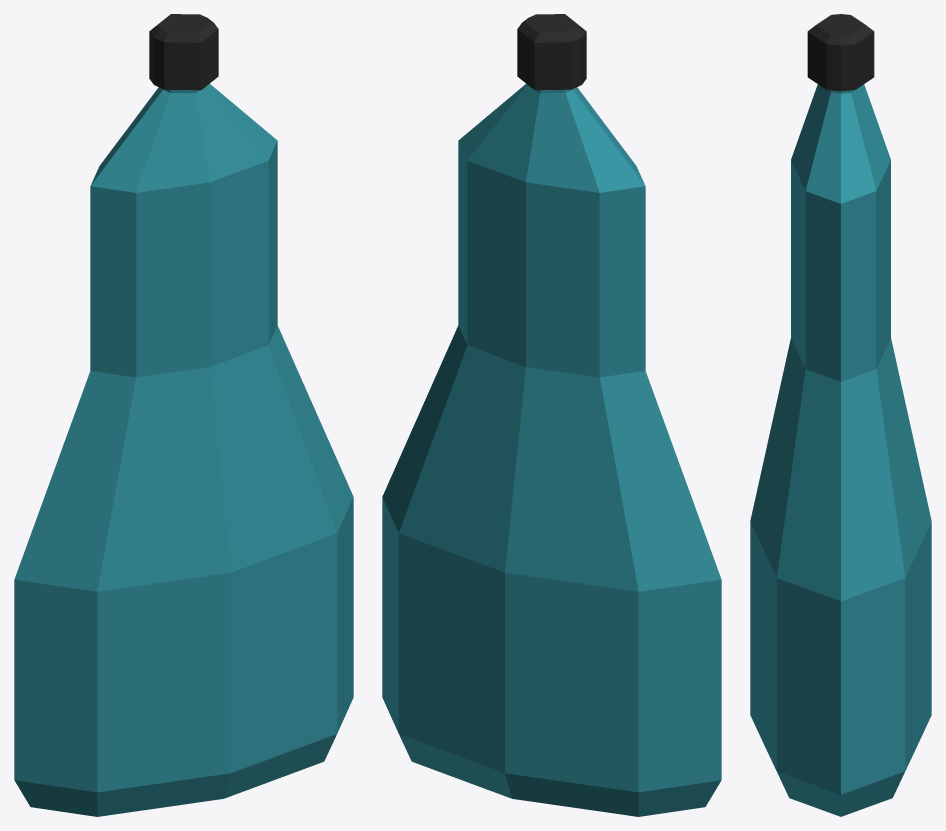
The model's file is Bottle_01.fbx.
The picture shows the model from 3 angles, left to right: view 1: azimuth 30°, elevation 25°; view 2: azimuth 150°, elevation 25°; view 3: azimuth 270°, elevation 25°; orthographic projection. The views are drawn at different scales.
Parts seen in each view (by area): view 1: Bottle_01; view 2: Bottle_01; view 3: Bottle_01.
Part boxes in pixels (x1=…): Bottle_01: x1=14, y1=14, x2=353, y2=816; Bottle_01: x1=382, y1=14, x2=721, y2=816; Bottle_01: x1=750, y1=14, x2=931, y2=816.
Bounding box in the file's own units: 22.85 × 48.84 × 10.98.
